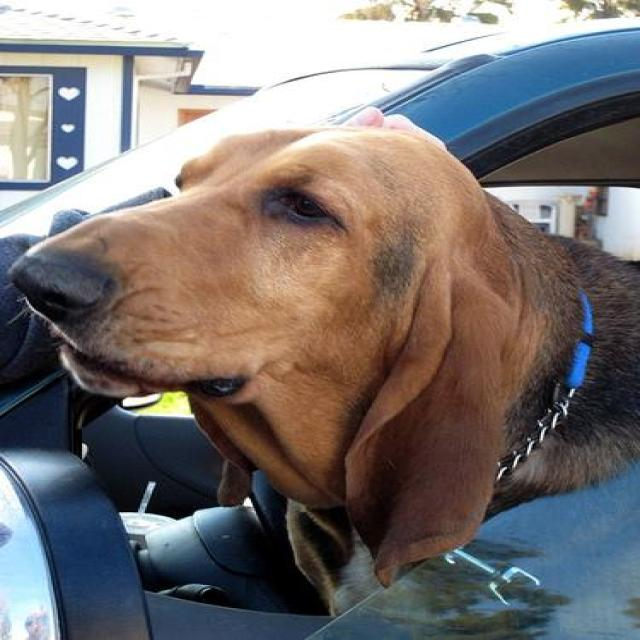bloodhound: (5, 105, 637, 612)
